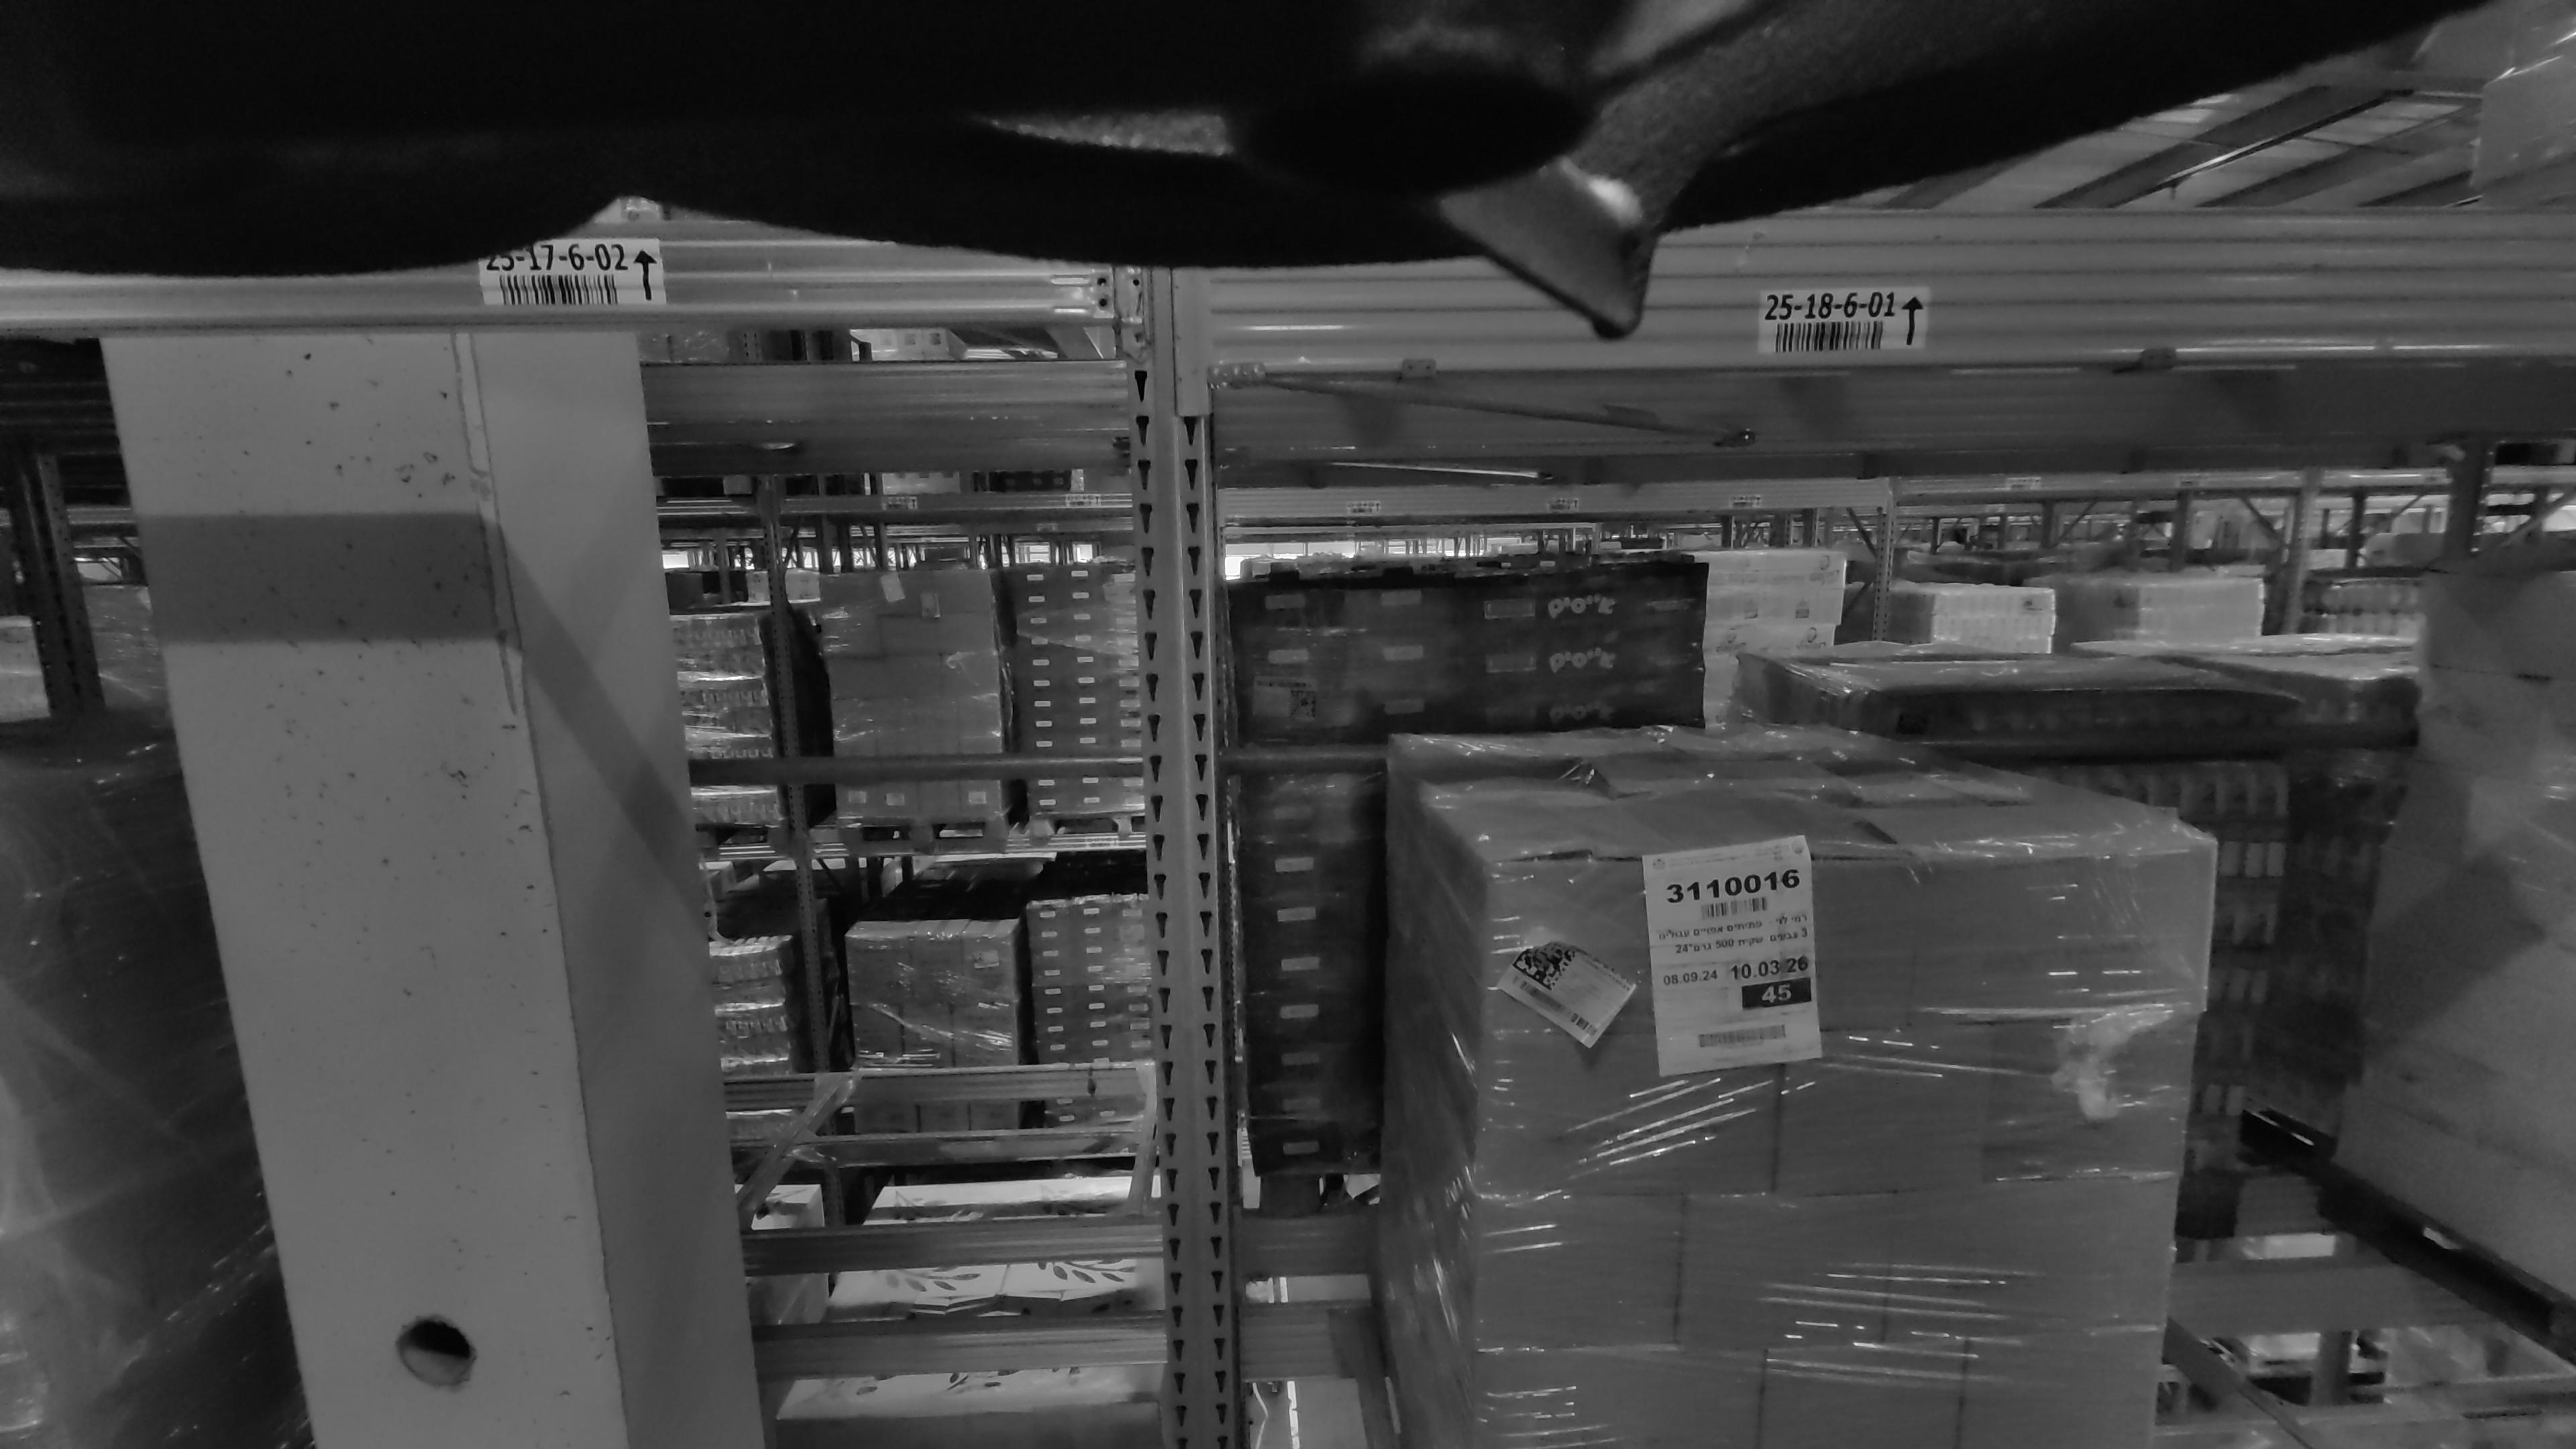empty-shelf: (676, 336, 1143, 1449), (752, 488, 1120, 1212)
